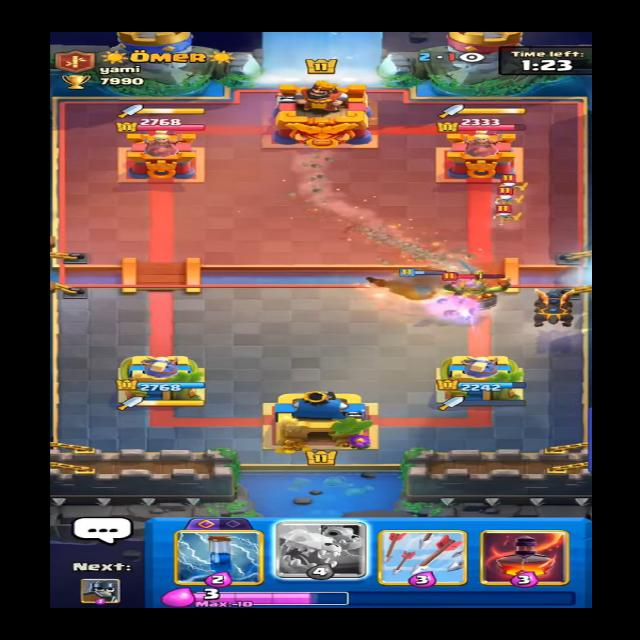Goblindemolisher: (423, 267, 521, 305)
Skeleton: (487, 203, 518, 229), (494, 186, 522, 207), (498, 173, 525, 194)
Trail: (360, 217, 476, 275)
